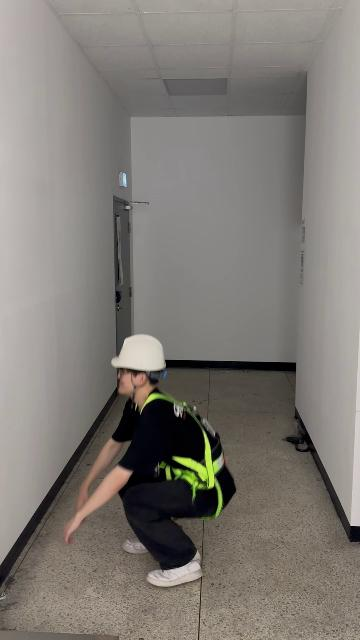helmet_worn: (110, 334, 168, 373)
shoe_not_worn: (146, 555, 203, 588), (122, 538, 150, 554)
vest_worn: (149, 393, 228, 514)
